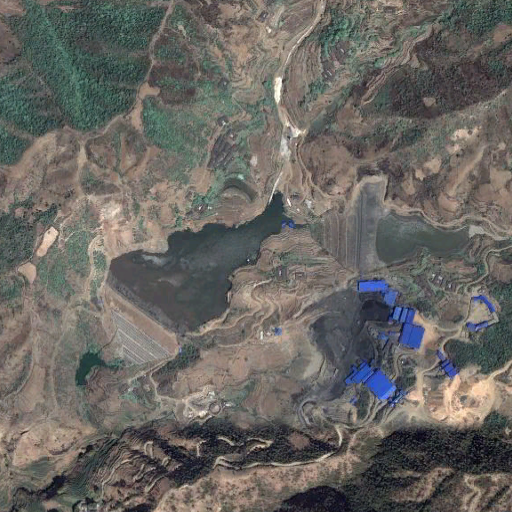tp: (101, 192, 289, 368), (309, 171, 483, 272)
